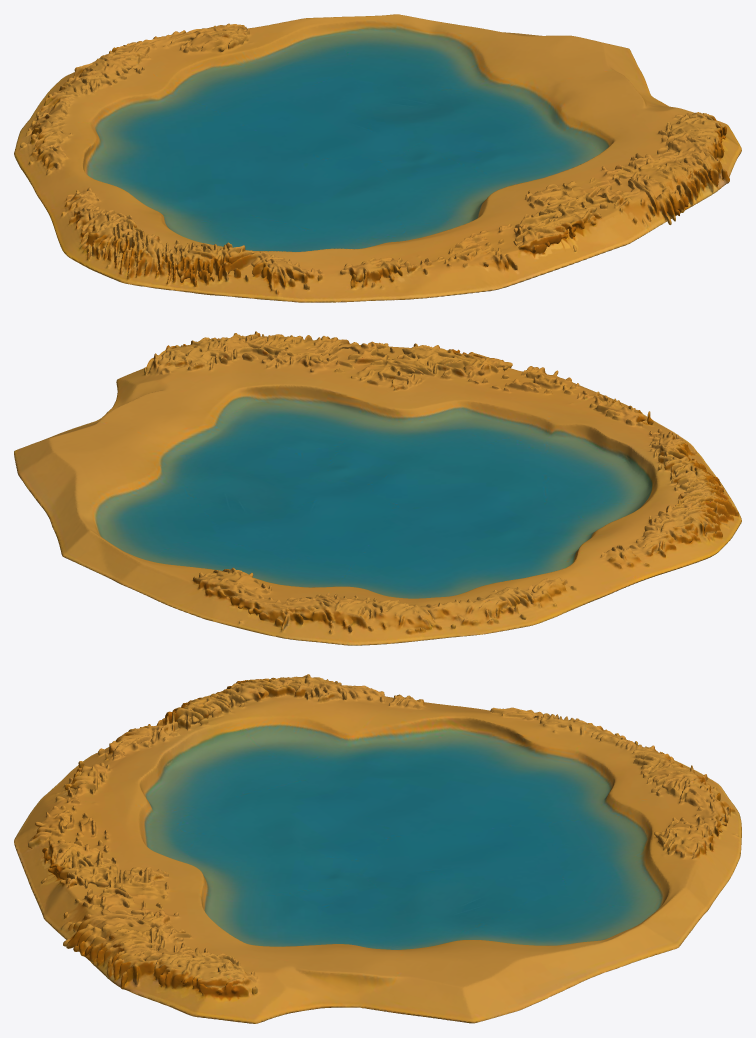
3 views of the same model, one above another, from view 1: azimuth 30°, elevation 25°; view 2: azimuth 150°, elevation 25°; view 3: azimuth 270°, elevation 25° (orthographic). The views are drawn at different scales.
Parts seen in each view (by area): view 1: tripo_node_2077b105-354b-4194-8078-8e823d172c96; view 2: tripo_node_2077b105-354b-4194-8078-8e823d172c96; view 3: tripo_node_2077b105-354b-4194-8078-8e823d172c96.
Boxes of the visible parts, x1=… form: tripo_node_2077b105-354b-4194-8078-8e823d172c96: x1=14, y1=14, x2=741, y2=302; tripo_node_2077b105-354b-4194-8078-8e823d172c96: x1=14, y1=331, x2=741, y2=645; tripo_node_2077b105-354b-4194-8078-8e823d172c96: x1=14, y1=674, x2=741, y2=1023.
Size of the model in its own units: 1 by 0.0535 by 0.9188.
Materials: 1 (1 with a texture image).
